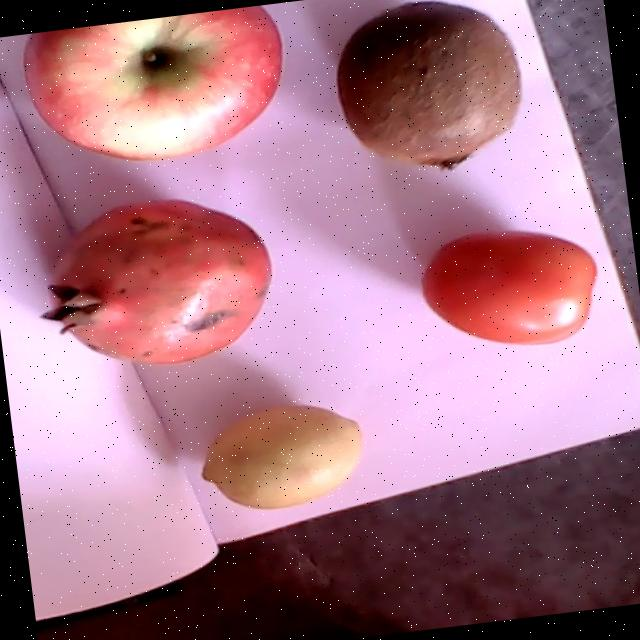apple: (22, 5, 280, 161)
kiwi: (333, 0, 519, 170)
lemon: (203, 404, 361, 507)
pomegranate: (40, 201, 272, 363)
tomato: (422, 232, 596, 345)
